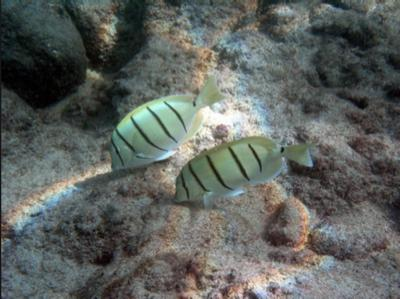Acanthuridae -Surgeonfishes-: (108, 69, 232, 170), (171, 134, 317, 206)
